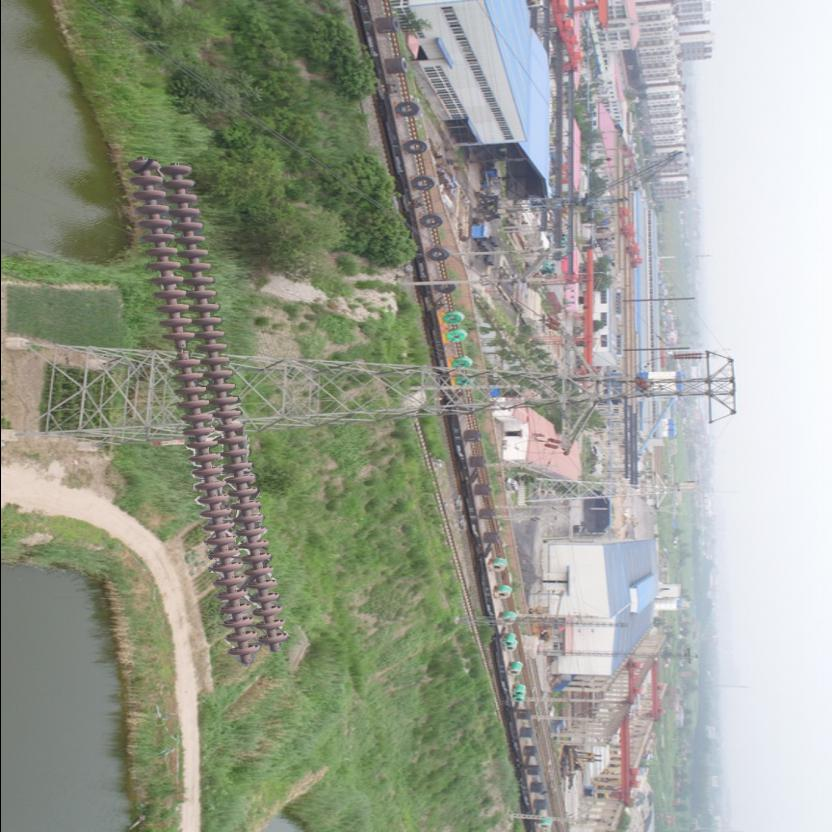defect: (160, 328, 202, 375)
